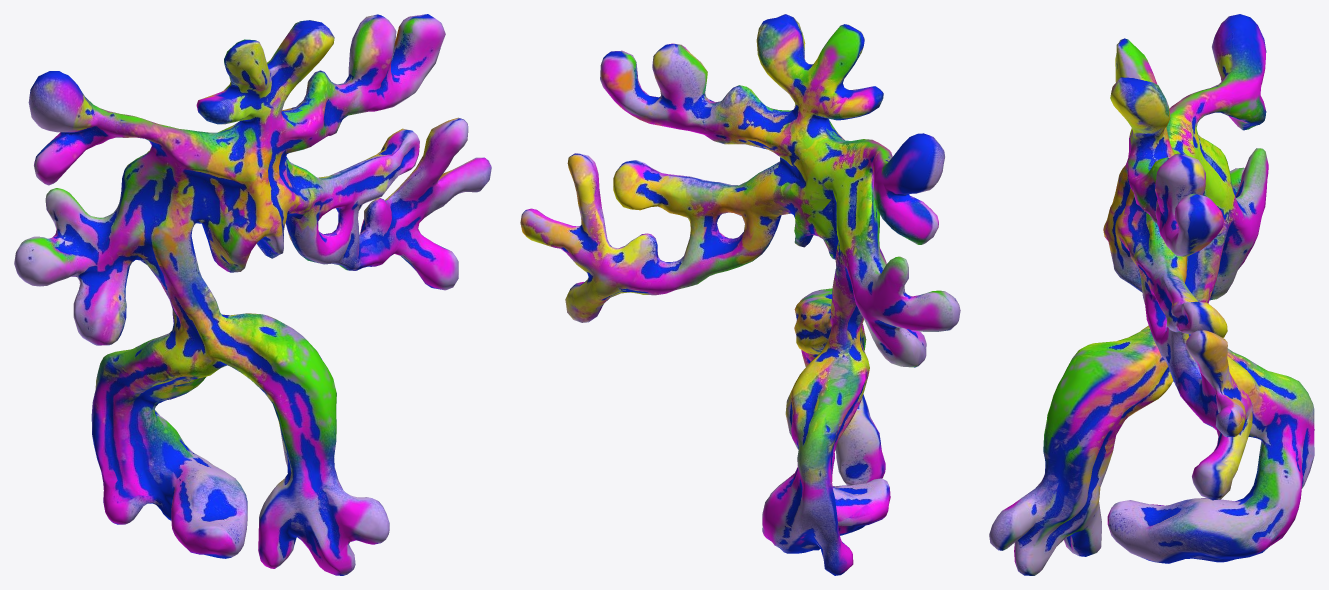
Rendered from shr-waterfall-tree-2.glb.
3 renders of one model, left to right at view 1: azimuth 30°, elevation 25°; view 2: azimuth 150°, elevation 25°; view 3: azimuth 270°, elevation 25°, orthographic. The views are drawn at different scales.
Parts seen in each view (by area): view 1: geometry_0; view 2: geometry_0; view 3: geometry_0.
Boxes of the visible parts, x1,y1,x2,y2 form: geometry_0: (14, 14, 491, 575); geometry_0: (520, 14, 960, 575); geometry_0: (989, 14, 1314, 575).
Size of the model in its own units: 0.9383 by 1 by 0.5637.
1 material, 1 textured.
